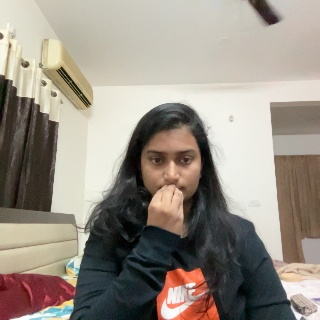Food: (145, 184, 193, 255)
